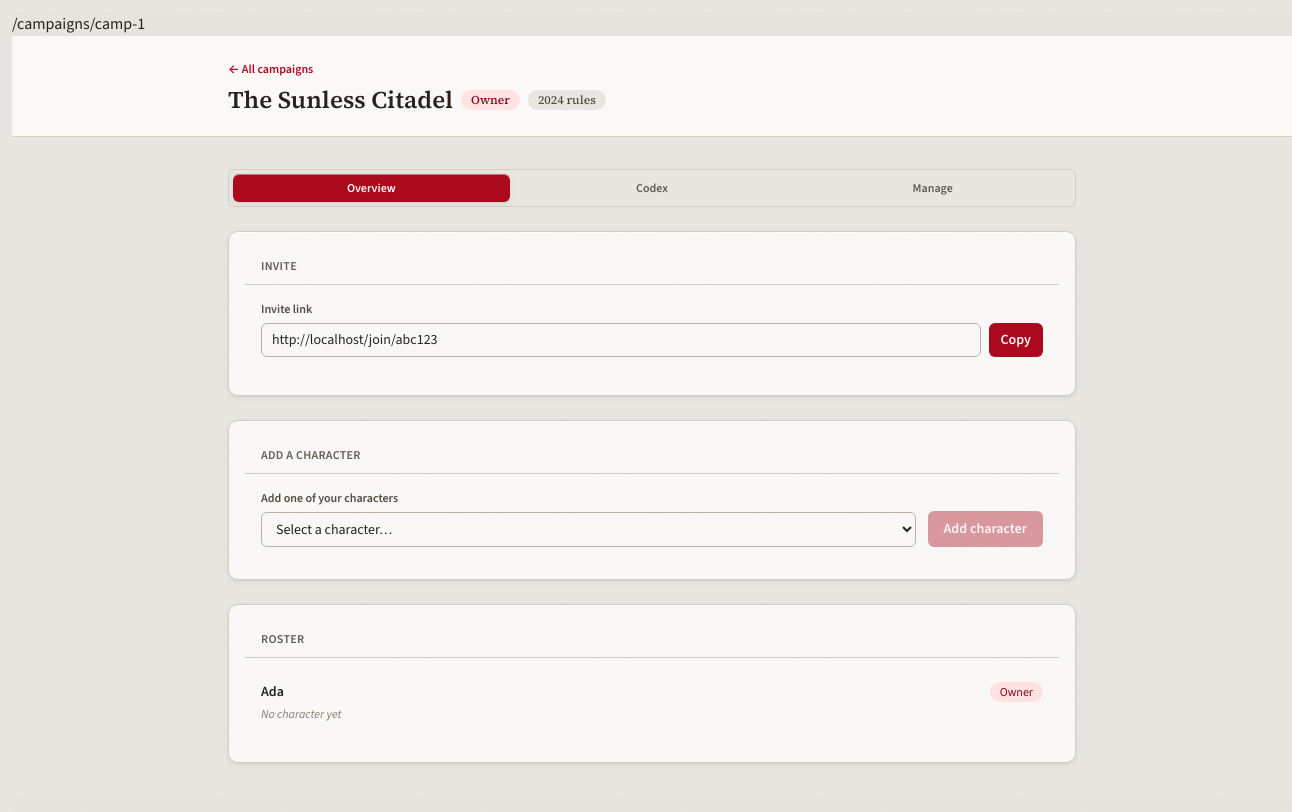
CampaignDetailPage (#246) › surfaces the edition-mismatch error verbatim when the join is blocked
Expected: the heading "The Sunless Citadel Owner 2024 rules" is shown, [228,83,606,116]
Select "Thordak" in the dropdown labelled "Add one of your characters" at (588, 530), box [261,512,916,547]
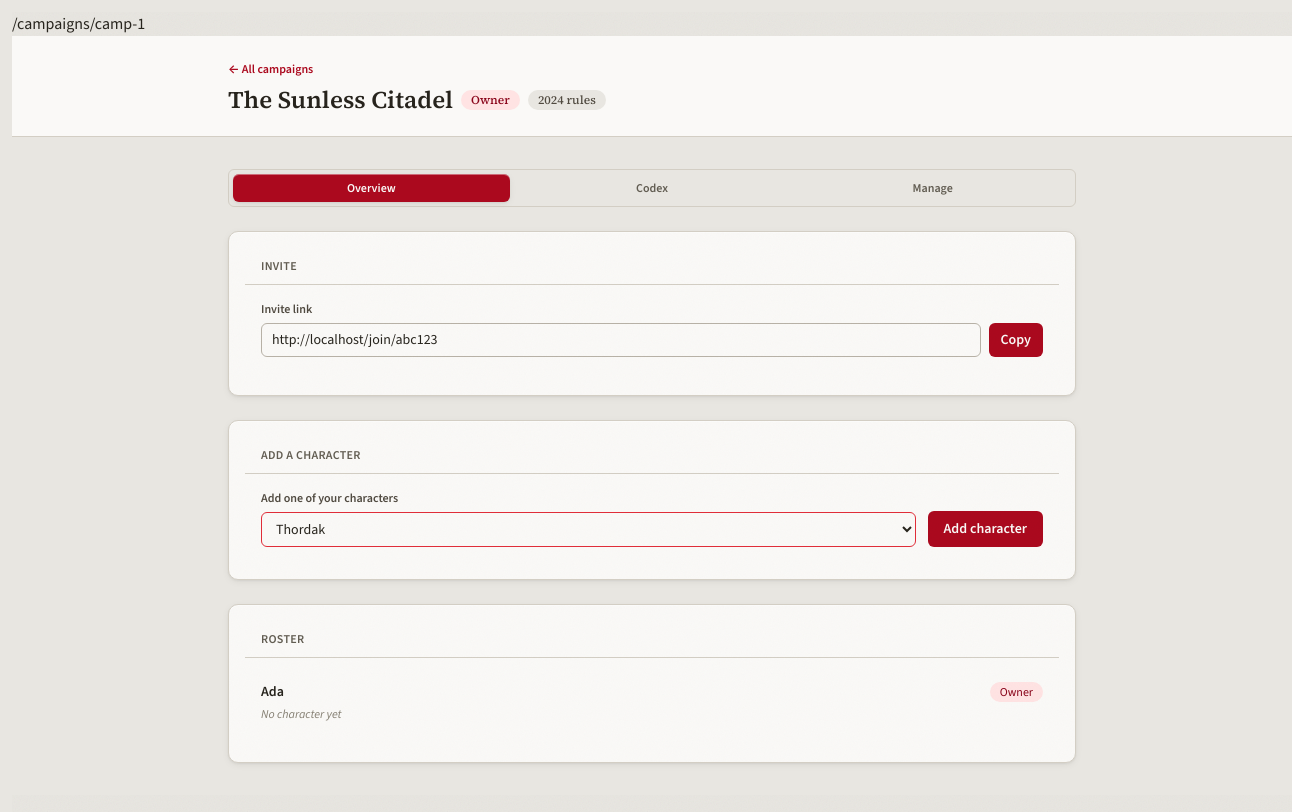
Click the button "Add character".
click(985, 529)  # box [928,511,1043,547]
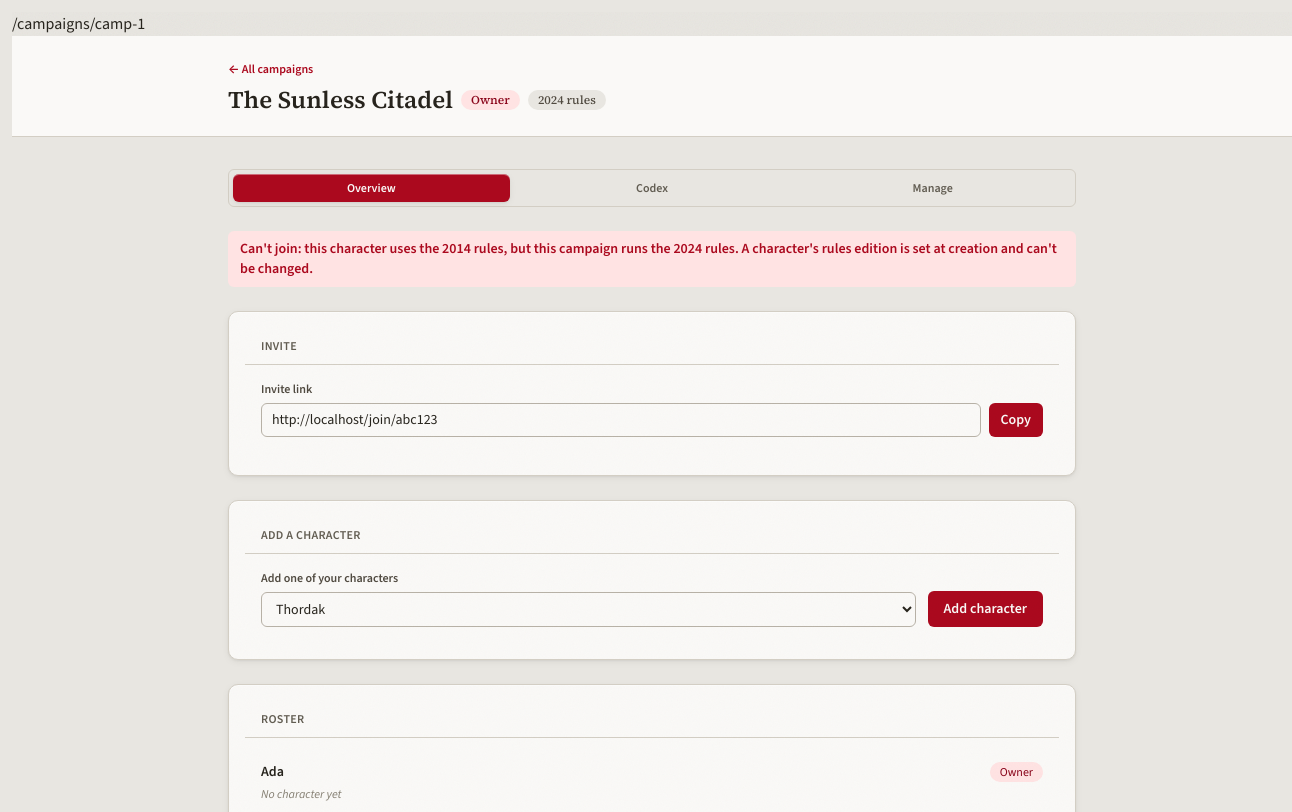
Expected: the text "this character uses the 2014 rules, but this campaign runs the 2024 rules" is shown, [240,239,1057,278]
